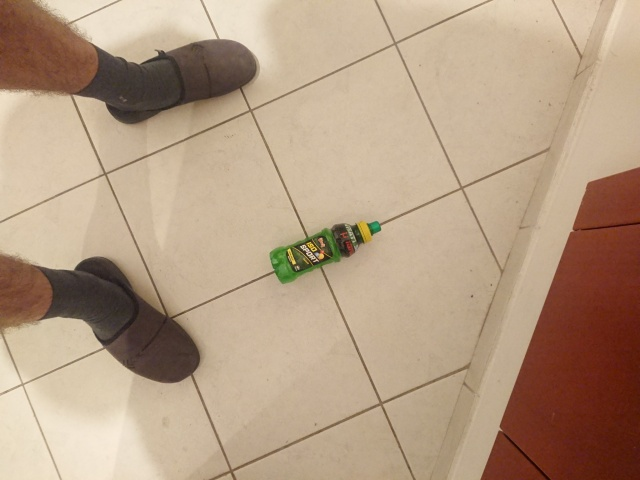Vindi Iso Sport Lemon-Grapefruit 500mL: (267, 219, 383, 286)
